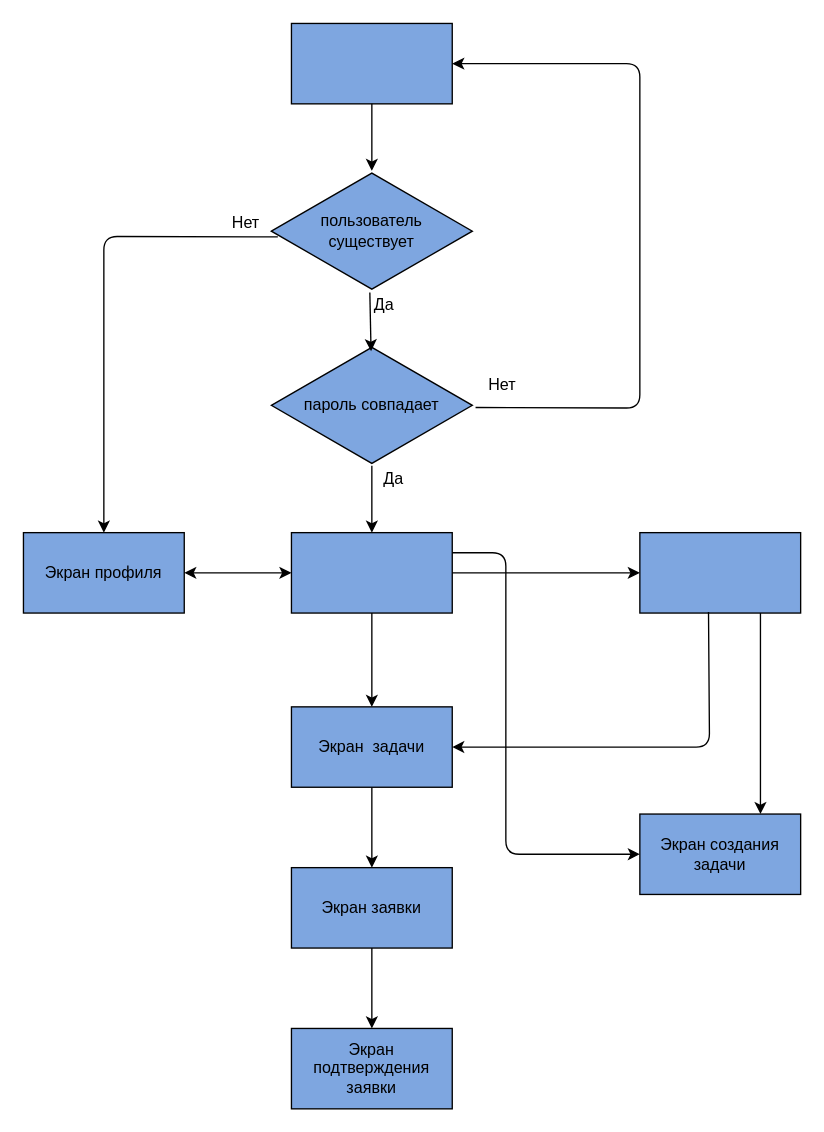
Some shapes in this 824 by 1132 pixel diagram are drawn without their labels. Here are the shapes that lost their labels. From the top down, the centre of each, then its label:
At (371,63): "Экран входа".
At (371,572): "Главный экран".
At (720,572): "Экран списка задач".
